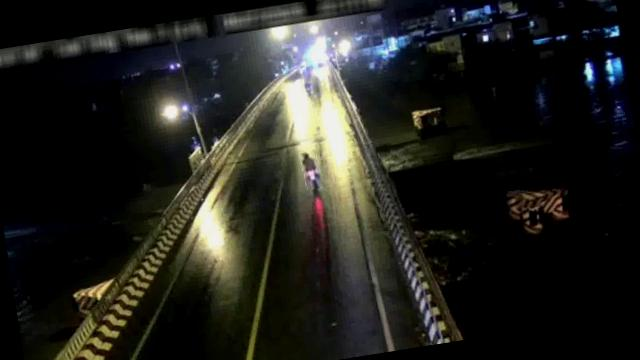Bike: (300, 148, 322, 190)
